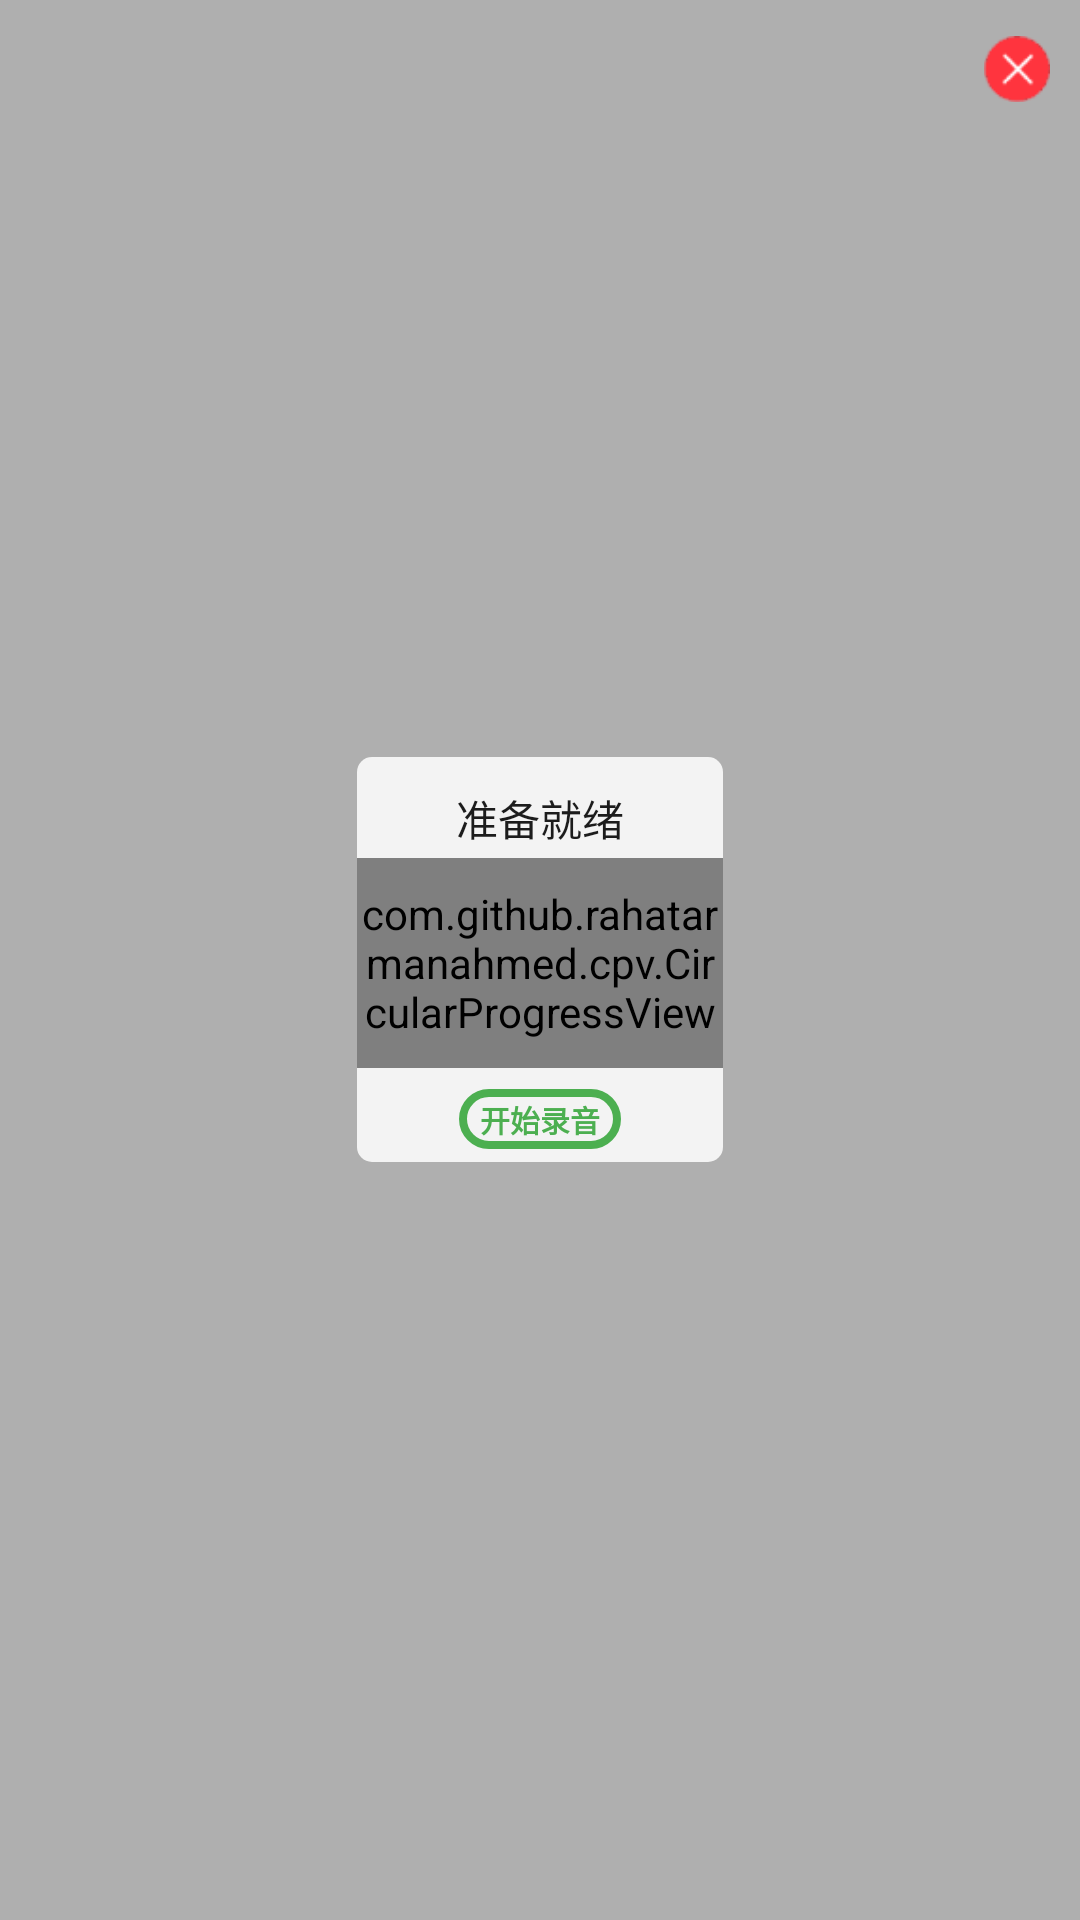

Screen size 1080×1920. Icon name, then its center in pixels as point (x, y):
sticker view delete: point (1017, 69)
